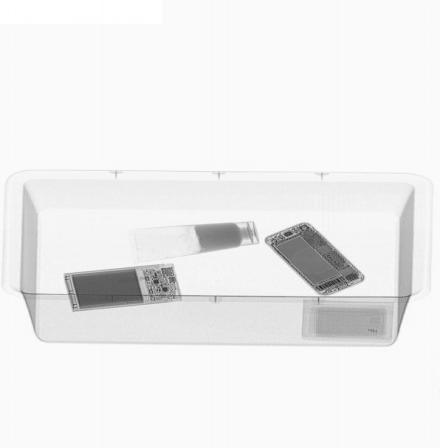Powerbank: (61, 262, 184, 312)
